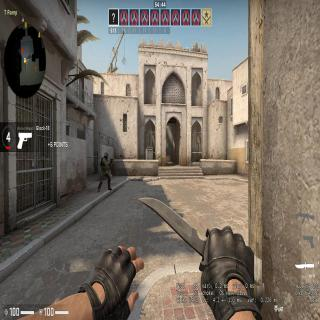CT-Body: (100, 152, 113, 188)
CT-Head: (103, 151, 109, 159)
